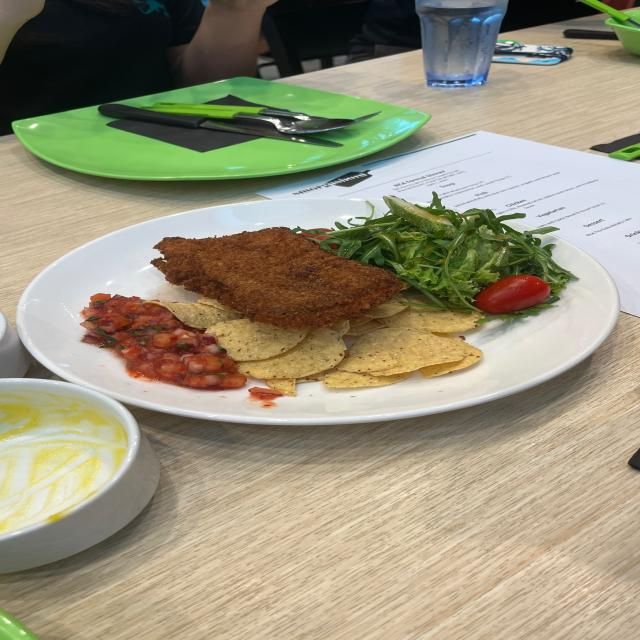Fish: (151, 227, 402, 328)
Green veg: (302, 192, 575, 310)
Non green veg: (80, 294, 246, 390), (475, 275, 550, 314)
Potato: (144, 297, 482, 396)
